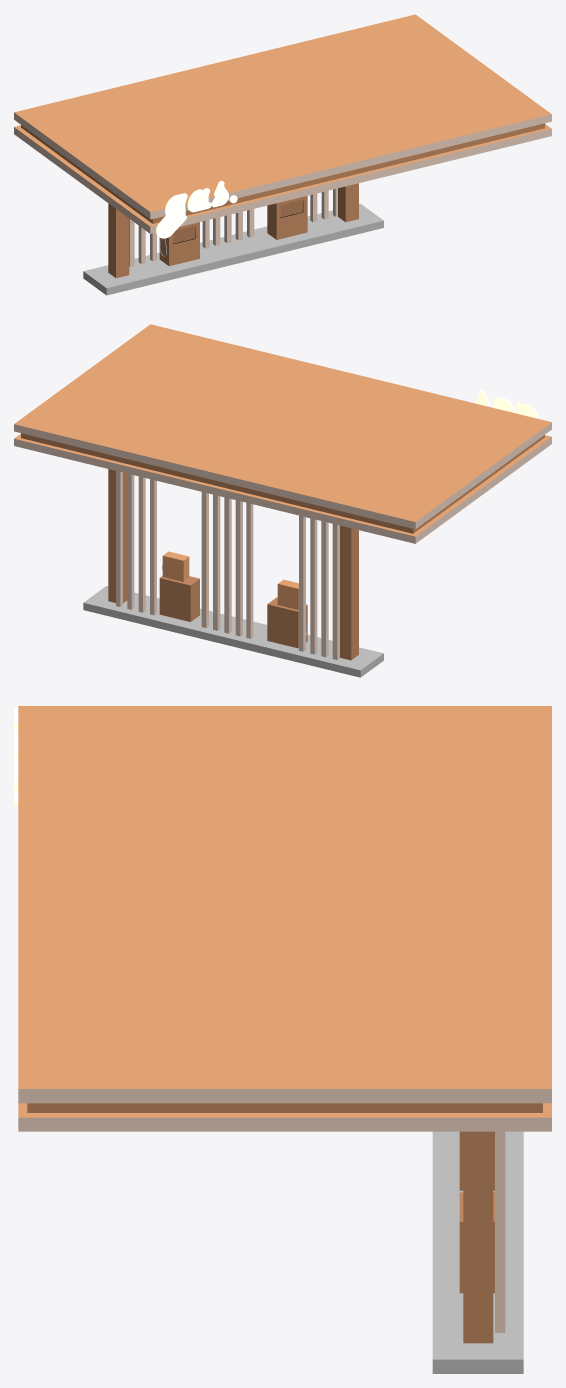
The model's file is GasStation.fbx.
3 renders of one model, top to bottom at view 1: azimuth 30°, elevation 25°; view 2: azimuth 150°, elevation 25°; view 3: azimuth 270°, elevation 25°, orthographic. The views are drawn at different scales.
Parts seen in each view (by area): view 1: gas_station; view 2: gas_station; view 3: gas_station.
Part boxes in pixels (x1=…): gas_station: x1=14, y1=14, x2=551, y2=295; gas_station: x1=14, y1=324, x2=551, y2=677; gas_station: x1=14, y1=706, x2=551, y2=1373.
Bounding box in the file's own units: 925 × 419 × 549.
